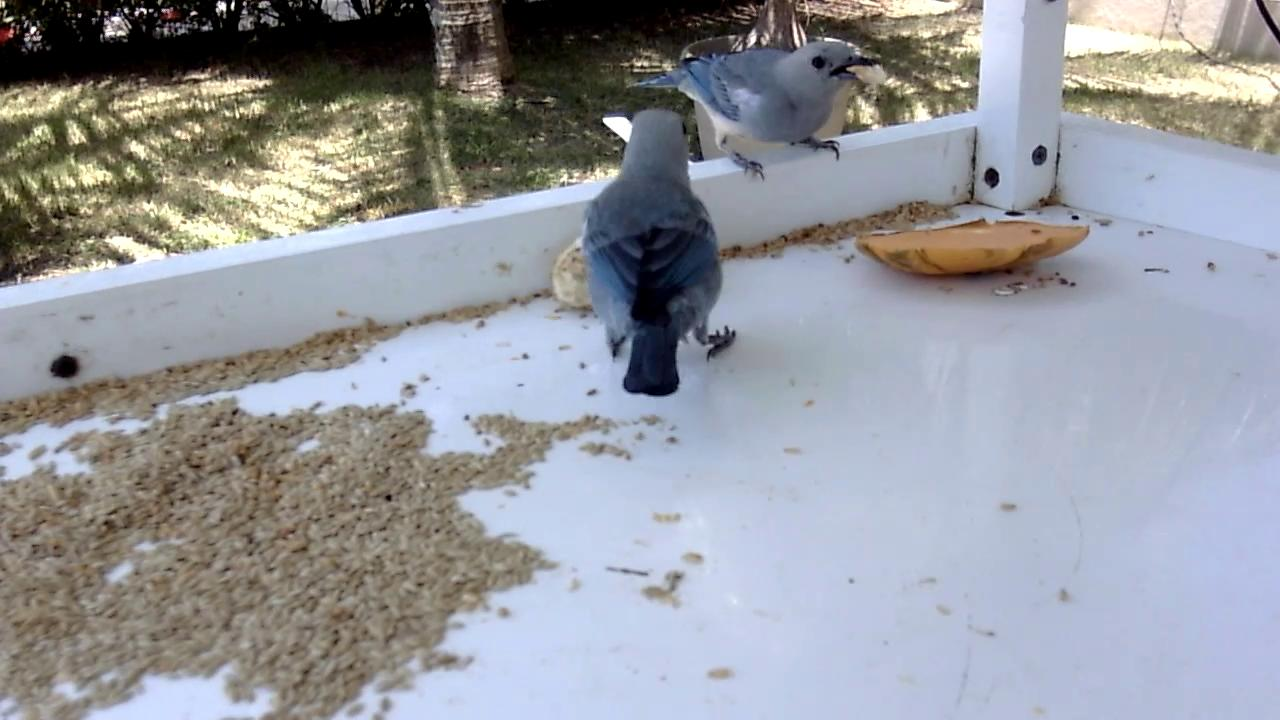sanhaco_da_amazonia: (583, 109, 738, 402), (629, 41, 885, 181)
